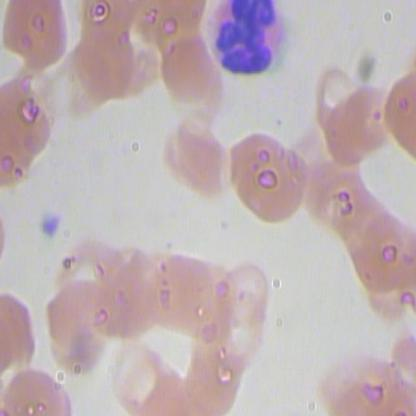Platelets: (31, 205, 64, 244)
RBC: (221, 124, 307, 224), (159, 112, 233, 202), (157, 25, 230, 115), (90, 255, 163, 345), (40, 271, 113, 361), (139, 246, 213, 332), (315, 345, 405, 415), (346, 207, 415, 292), (69, 19, 138, 104), (175, 335, 245, 415), (5, 1, 73, 79), (102, 339, 170, 415), (1, 72, 55, 164), (311, 94, 369, 173), (324, 164, 382, 243), (337, 181, 395, 260), (339, 78, 396, 157), (301, 149, 358, 228), (217, 302, 267, 378), (1, 361, 71, 415), (220, 257, 270, 332), (142, 361, 205, 415)
WBC: (203, 1, 294, 80)
